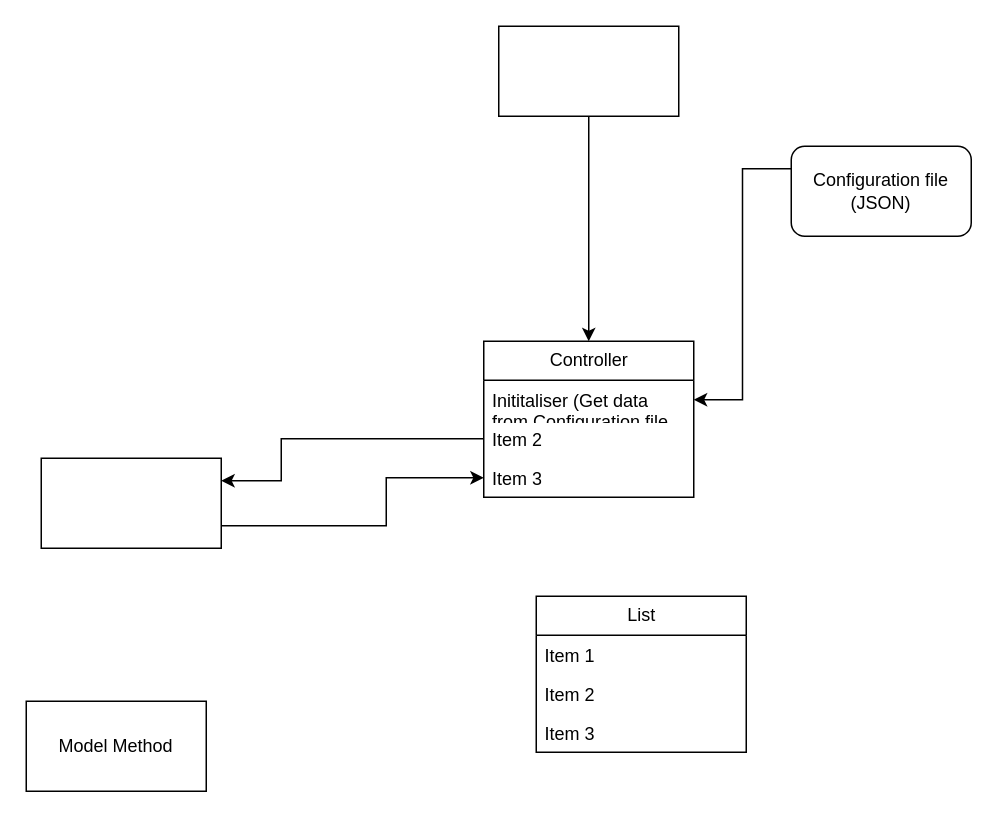
This 998x818 diagram has some shape labels left out. Each missing label, with the centre of its shape:
"QUICkSilver" belongs at (588,70).
"UI Method" belongs at (130,502).
